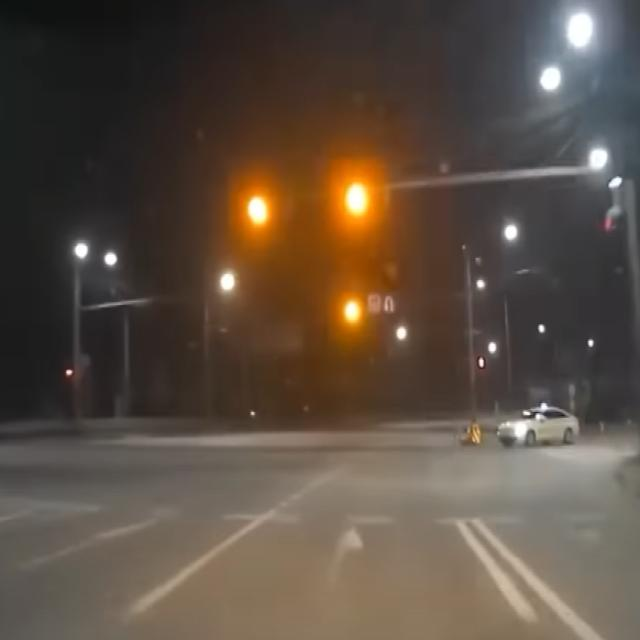Yellow Light: (341, 180, 373, 220), (244, 190, 271, 230), (340, 297, 365, 328)
